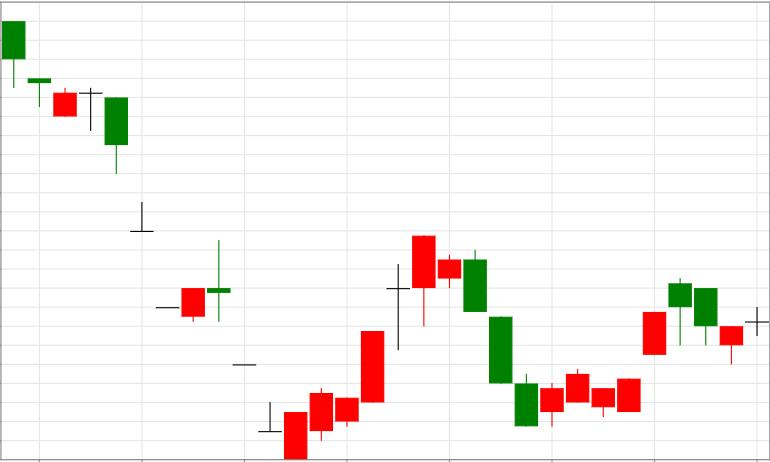three_black_crows_fall: (259, 235, 539, 459)
